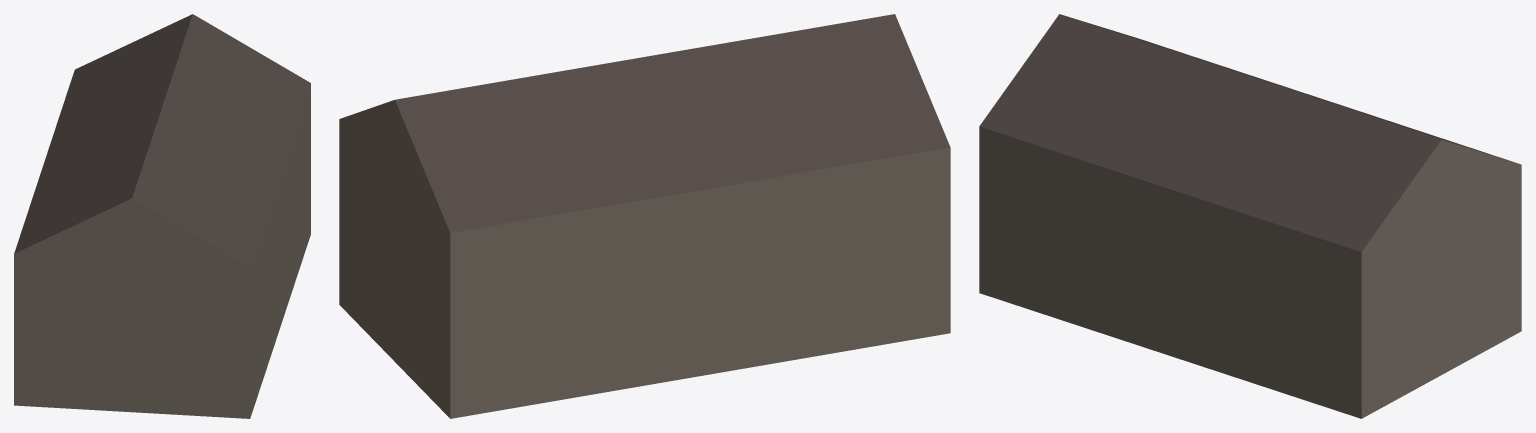
3 views of the same model, side by side, from view 1: azimuth 30°, elevation 25°; view 2: azimuth 150°, elevation 25°; view 3: azimuth 270°, elevation 25° (orthographic). The views are drawn at different scales.
Parts seen in each view (by area): view 1: HP-w859091079; view 2: HP-w859091079; view 3: HP-w859091079.
Part boxes in pixels (bbox=[...]): HP-w859091079: bbox=[14, 14, 310, 418]; HP-w859091079: bbox=[339, 14, 950, 418]; HP-w859091079: bbox=[979, 14, 1521, 418].
Size of the model in its own units: 16.47 by 8.47 by 17.68.
